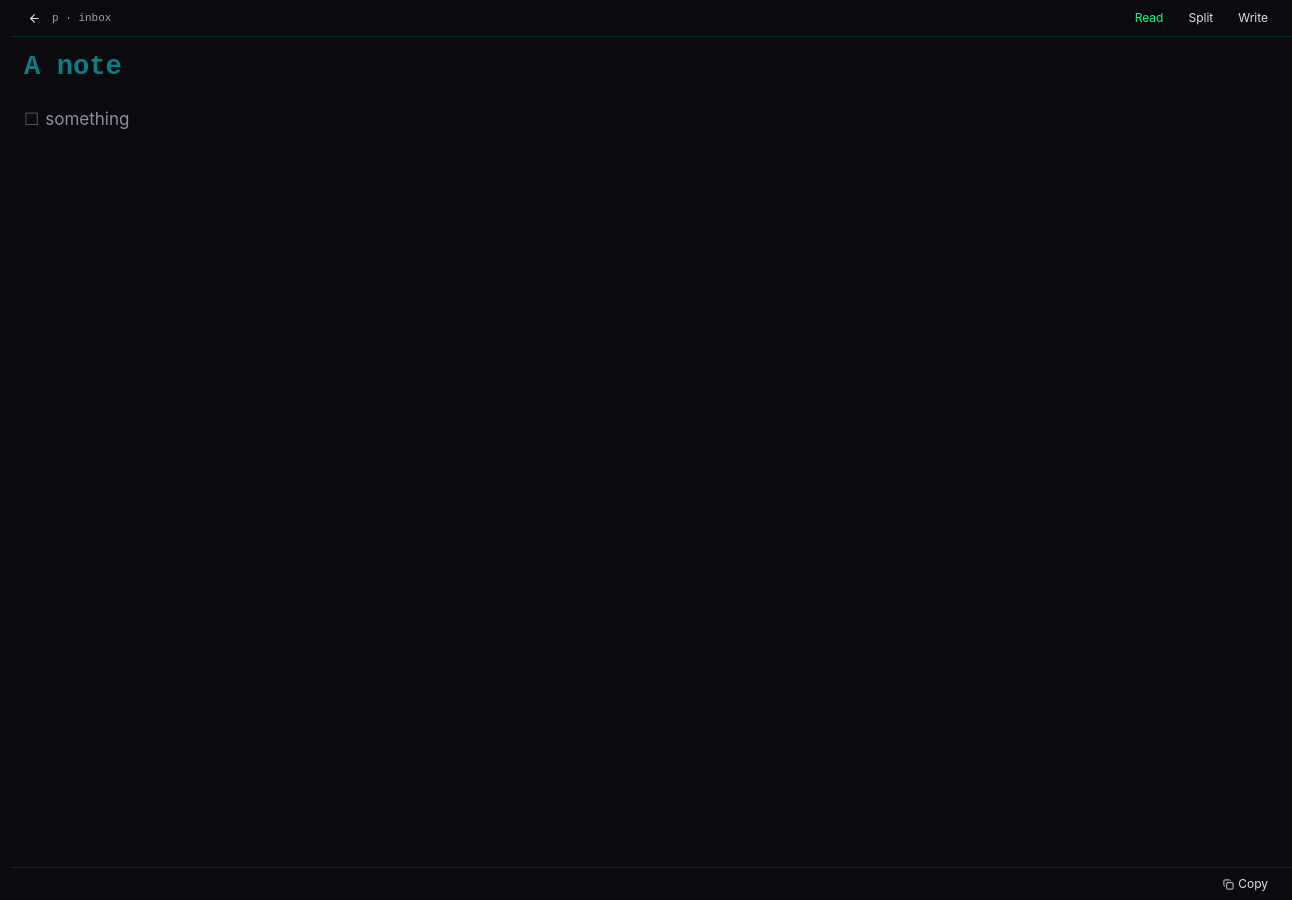
Test: NotesView › shows the source and the rendering at once in the split
The width and height of the screenshot is (1292, 900).
Expected: the text "A note" is shown, [24,51,122,82]
Click the button "Split" at [1201, 18], box [1176,6,1225,30]
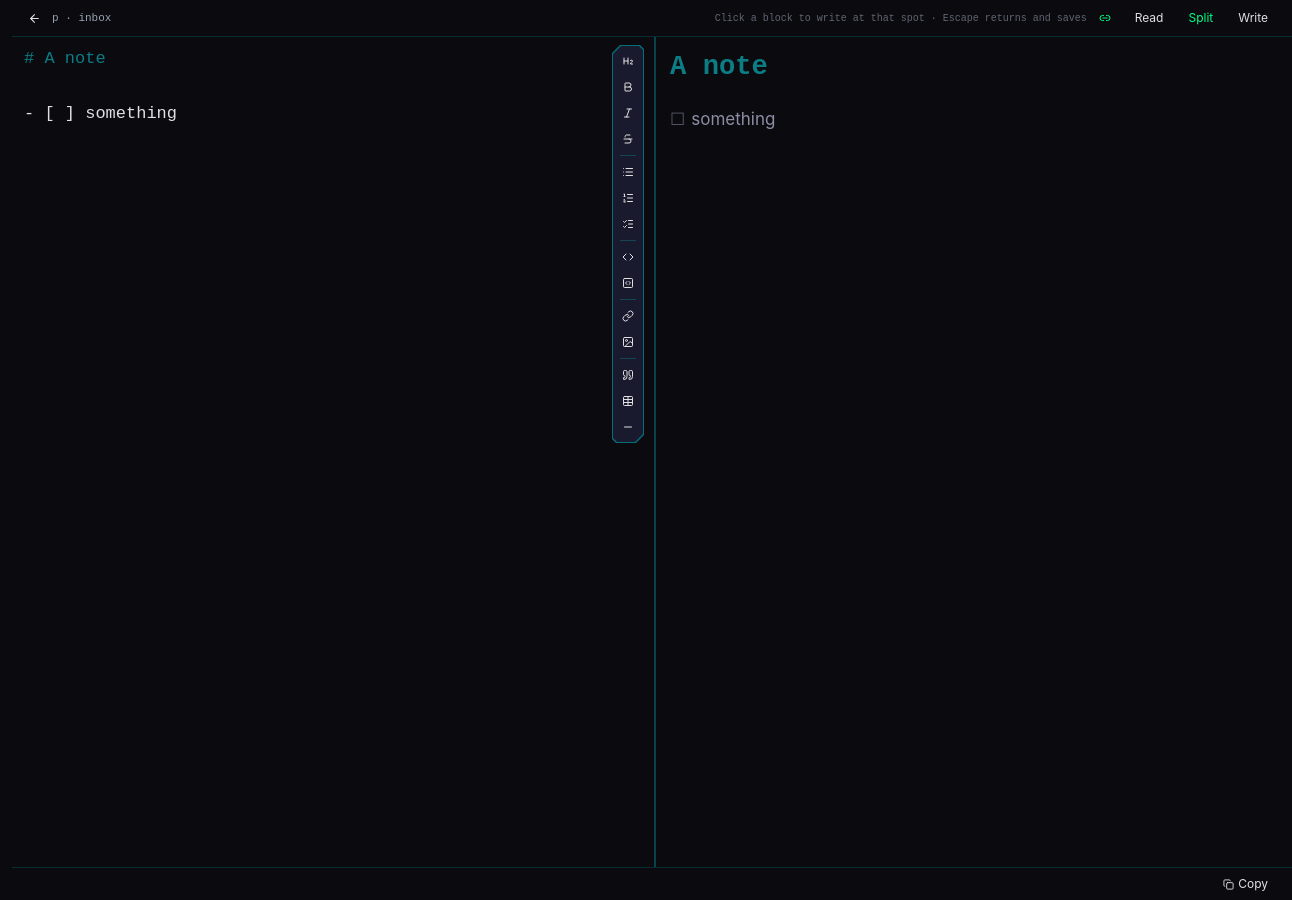
Expected: the text "A note" is shown, [670,51,768,82]
Expected: the text box named "Note text" is shown, [12,37,652,867]
Expected: the element named "Editor and preview" is shown, [654,37,656,867]
